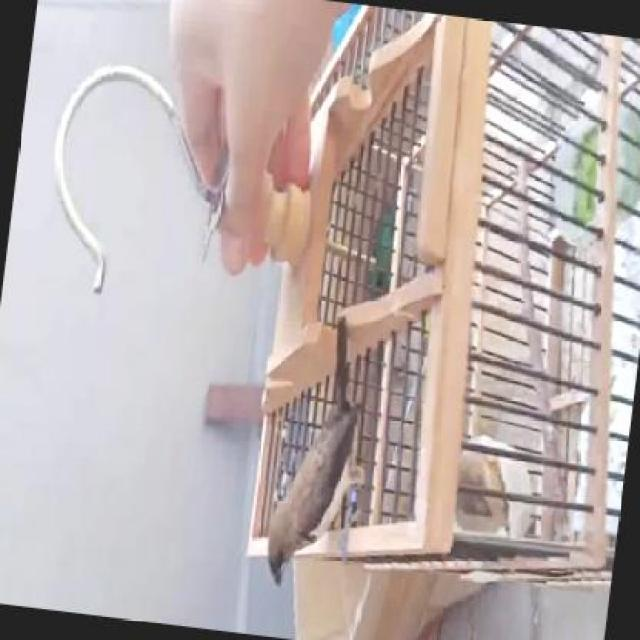Bird: (267, 313, 367, 592)
